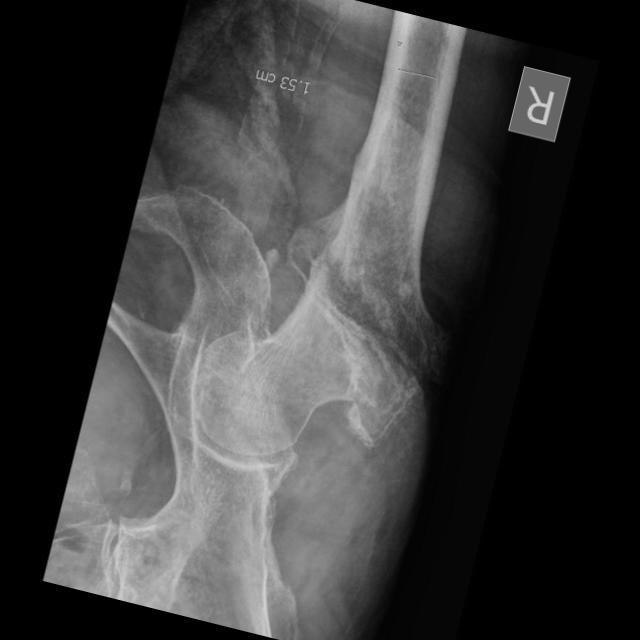right-intertrochanteric: (286, 140, 452, 383), (191, 281, 420, 454)
